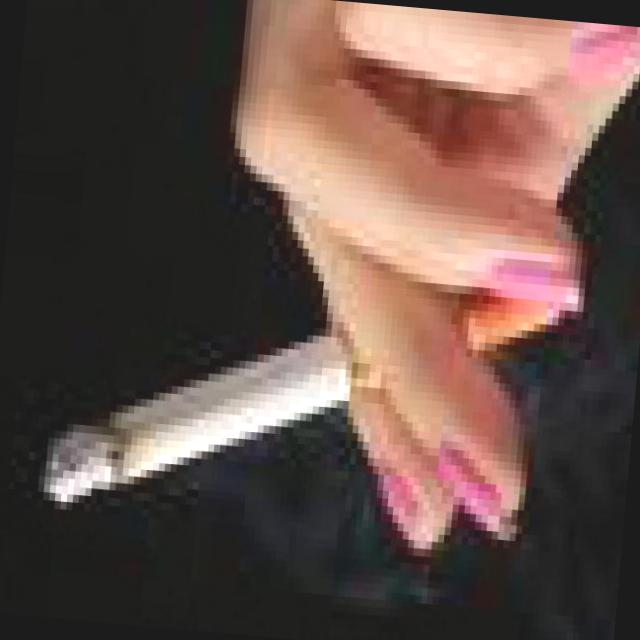cigarette: (29, 195, 589, 560)
